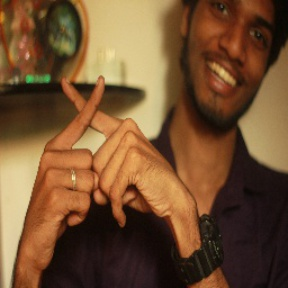X: (31, 68, 145, 166)
